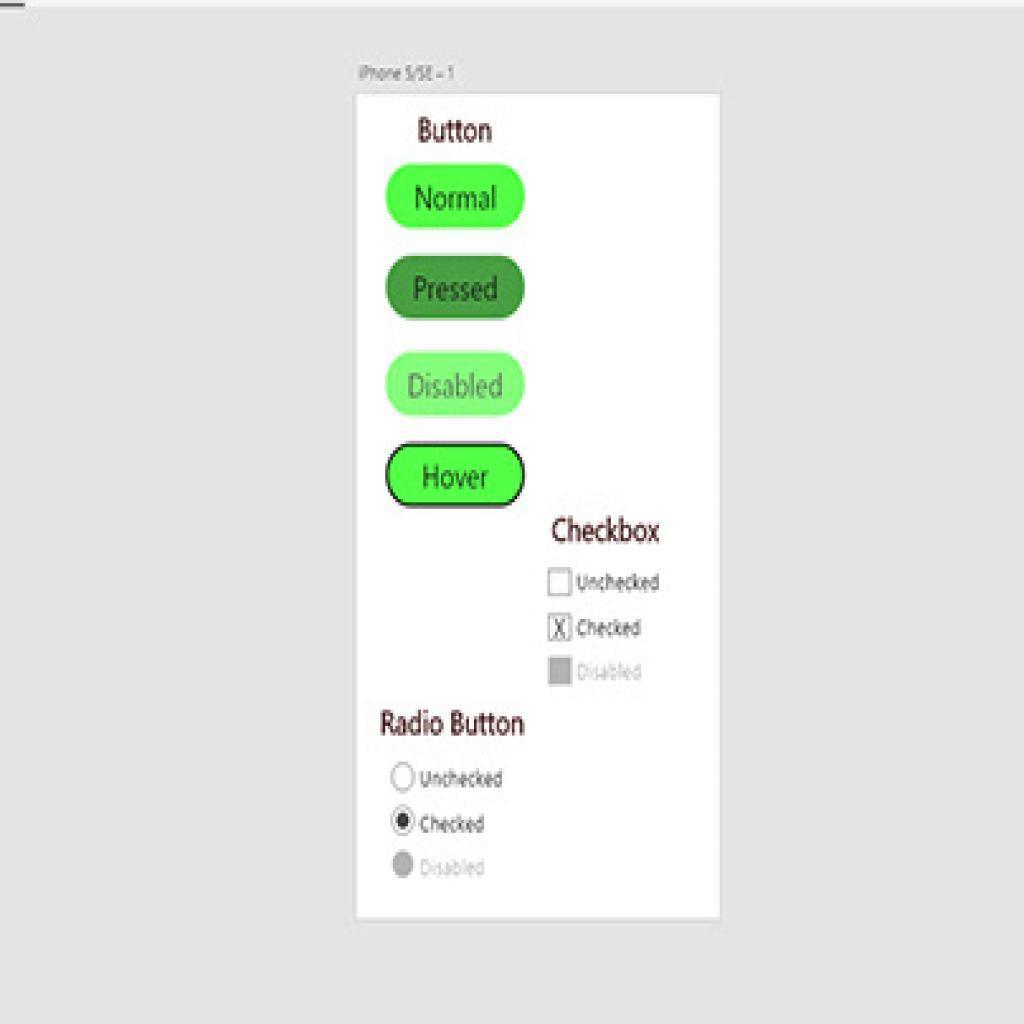button: (384, 248, 525, 323), (385, 348, 526, 421), (386, 438, 525, 512), (384, 160, 525, 230)
checkbox: (547, 611, 575, 645), (546, 656, 573, 685), (546, 568, 573, 596)
radio: (388, 844, 415, 879), (391, 805, 418, 838), (390, 758, 414, 794)
